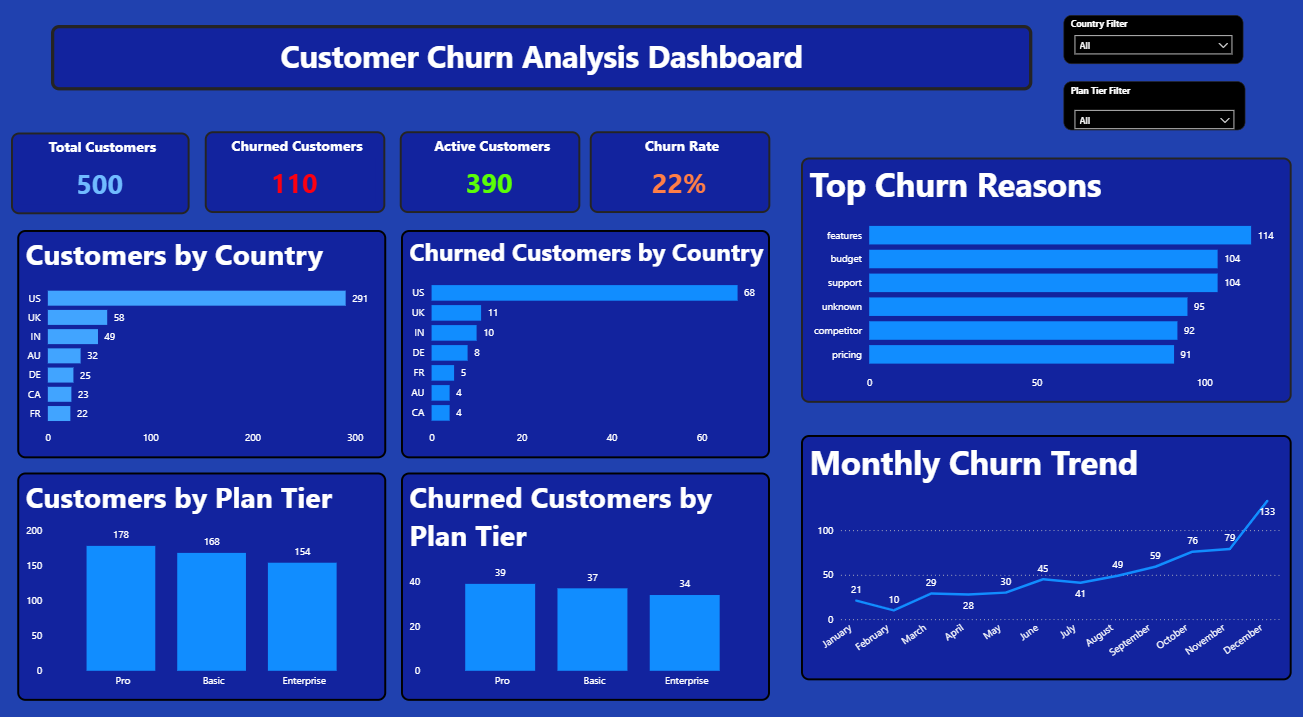

The page's visual inventory and layout, read from the dashboard file:
{"tool":"powerbi","page":{"name":"Page 1","canvas":[1600,900],"ordinal":0},"visuals":[{"type":"cardVisual","title":"Total Customers","fields":{"Data":["Count(ravenstack_accounts.account_id)"]},"box":[18.6,174.4,218.6,100],"z":0},{"type":"cardVisual","title":"Churned Customers","fields":{"Data":["Count(ravenstack_accounts.account_id)"]},"box":[255.8,172.1,220.9,100],"z":1000},{"type":"cardVisual","title":"Active Customers","fields":{"Data":["Count(ravenstack_accounts.account_id)"]},"box":[493,172.1,220.9,100],"z":2000},{"type":"cardVisual","title":"Churn Rate","fields":{"Data":["ravenstack_accounts.Churn Rate"]},"box":[725.6,172.1,220.9,100],"z":3000},{"type":"clusteredBarChart","title":"Customers by Country","fields":{"Category":["ravenstack_accounts.country"],"Y":["Count(ravenstack_accounts.account_id)"]},"box":[25.6,293,451.2,279.1],"z":4000},{"type":"clusteredColumnChart","title":"Customers by Plan Tier","fields":{"Category":["ravenstack_accounts.plan_tier"],"Y":["CountNonNull(ravenstack_accounts.account_id)"]},"box":[25.6,590.7,451.2,279.1],"z":5000},{"type":"slicer","title":"Country Filter","fields":{"Values":["ravenstack_accounts.country"]},"box":[1304.7,30.2,220,60],"z":6000},{"type":"slicer","title":"Plan Tier Filter","fields":{"Values":["ravenstack_accounts.plan_tier"]},"box":[1304.8,111.1,222.2,60.3],"z":7000},{"type":"clusteredBarChart","title":"Churned Customers by Country","fields":{"Category":["ravenstack_accounts.country"],"Y":["CountNonNull(ravenstack_accounts.account_id)"]},"box":[495.3,293,451.2,279.1],"z":8000},{"type":"textbox","box":[66.7,43.3,1200,80],"z":9000},{"type":"clusteredColumnChart","title":"Churned Customers by Plan Tier","fields":{"Category":["ravenstack_accounts.plan_tier"],"Y":["CountNonNull(ravenstack_accounts.account_id)"]},"box":[495.3,590.7,451.2,279.1],"z":10000},{"type":"clusteredBarChart","title":"Top Churn Reasons","fields":{"Category":["ravenstack_churn_events.reason_code"],"Y":["CountNonNull(ravenstack_churn_events.churn_event_id)"]},"box":[983.7,204.7,600,300],"z":11000},{"type":"lineChart","title":"Monthly Churn Trend","fields":{"Y":["CountNonNull(ravenstack_churn_events.churn_event_id)"],"Category":["ravenstack_churn_events.churn_date.Variation.Date Hierarchy.Month"]},"box":[983.7,544.2,600,300],"z":12000}]}

Visuals, with their boxes in screenshot pixels (x1, y1, x2, y2), scaled from the page's 1600x900 canvas onto the 1303x717 screenshot:
"Total Customers" cardVisual: (15,139,193,219)
"Churned Customers" cardVisual: (208,137,388,217)
"Active Customers" cardVisual: (401,137,581,217)
"Churn Rate" cardVisual: (591,137,771,217)
"Customers by Country" clusteredBarChart: (21,233,388,456)
"Customers by Plan Tier" clusteredColumnChart: (21,471,388,693)
"Country Filter" slicer: (1063,24,1242,72)
"Plan Tier Filter" slicer: (1063,89,1244,137)
"Churned Customers by Country" clusteredBarChart: (403,233,771,456)
textbox: (54,34,1032,98)
"Churned Customers by Plan Tier" clusteredColumnChart: (403,471,771,693)
"Top Churn Reasons" clusteredBarChart: (801,163,1290,402)
"Monthly Churn Trend" lineChart: (801,434,1290,673)
